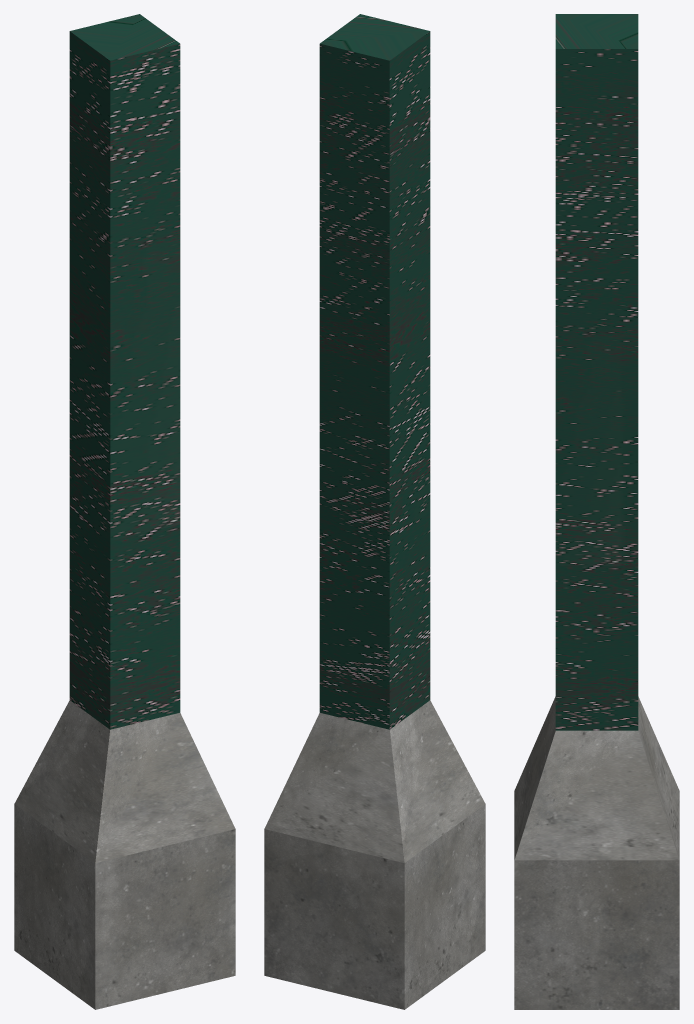
The model's file is Fencepost.fbx.
3 renders of one model, left to right at view 1: azimuth 30°, elevation 25°; view 2: azimuth 150°, elevation 25°; view 3: azimuth 270°, elevation 25°, orthographic.
Visible parts, largest first — view 1: Fencepost; view 2: Fencepost; view 3: Fencepost.
Boxes of the visible parts, x1,y1,x2,y2 form: Fencepost: (14,14,235,1009); Fencepost: (264,14,485,1009); Fencepost: (514,14,679,1009).
Size of the model in its own units: 40 by 252 by 40.
